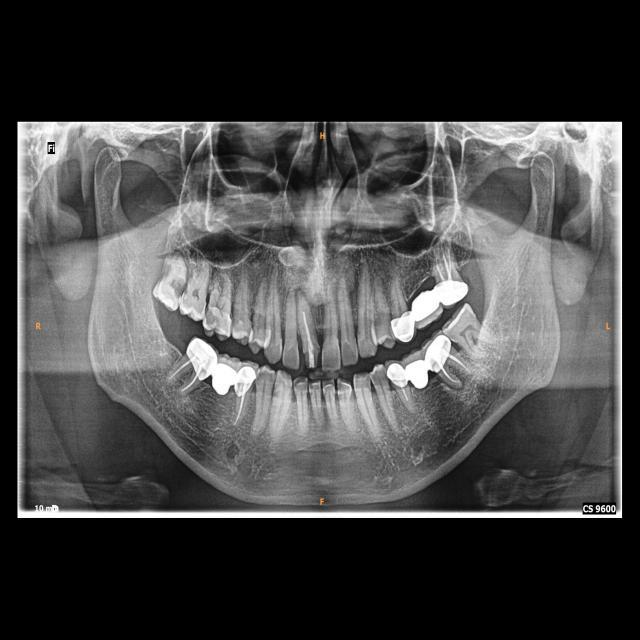dentin-curugu: (250, 308, 272, 346), (202, 302, 226, 329), (166, 278, 188, 300)
kanal-tedavisi: (430, 245, 461, 281), (298, 307, 316, 356), (168, 363, 198, 392), (396, 384, 420, 411), (235, 397, 249, 428)
kaplama: (417, 332, 458, 380), (185, 334, 217, 376), (382, 361, 411, 392), (436, 278, 468, 304), (391, 314, 416, 342), (235, 369, 255, 395)
kopru: (399, 276, 456, 338), (399, 345, 442, 401), (200, 359, 252, 400)
